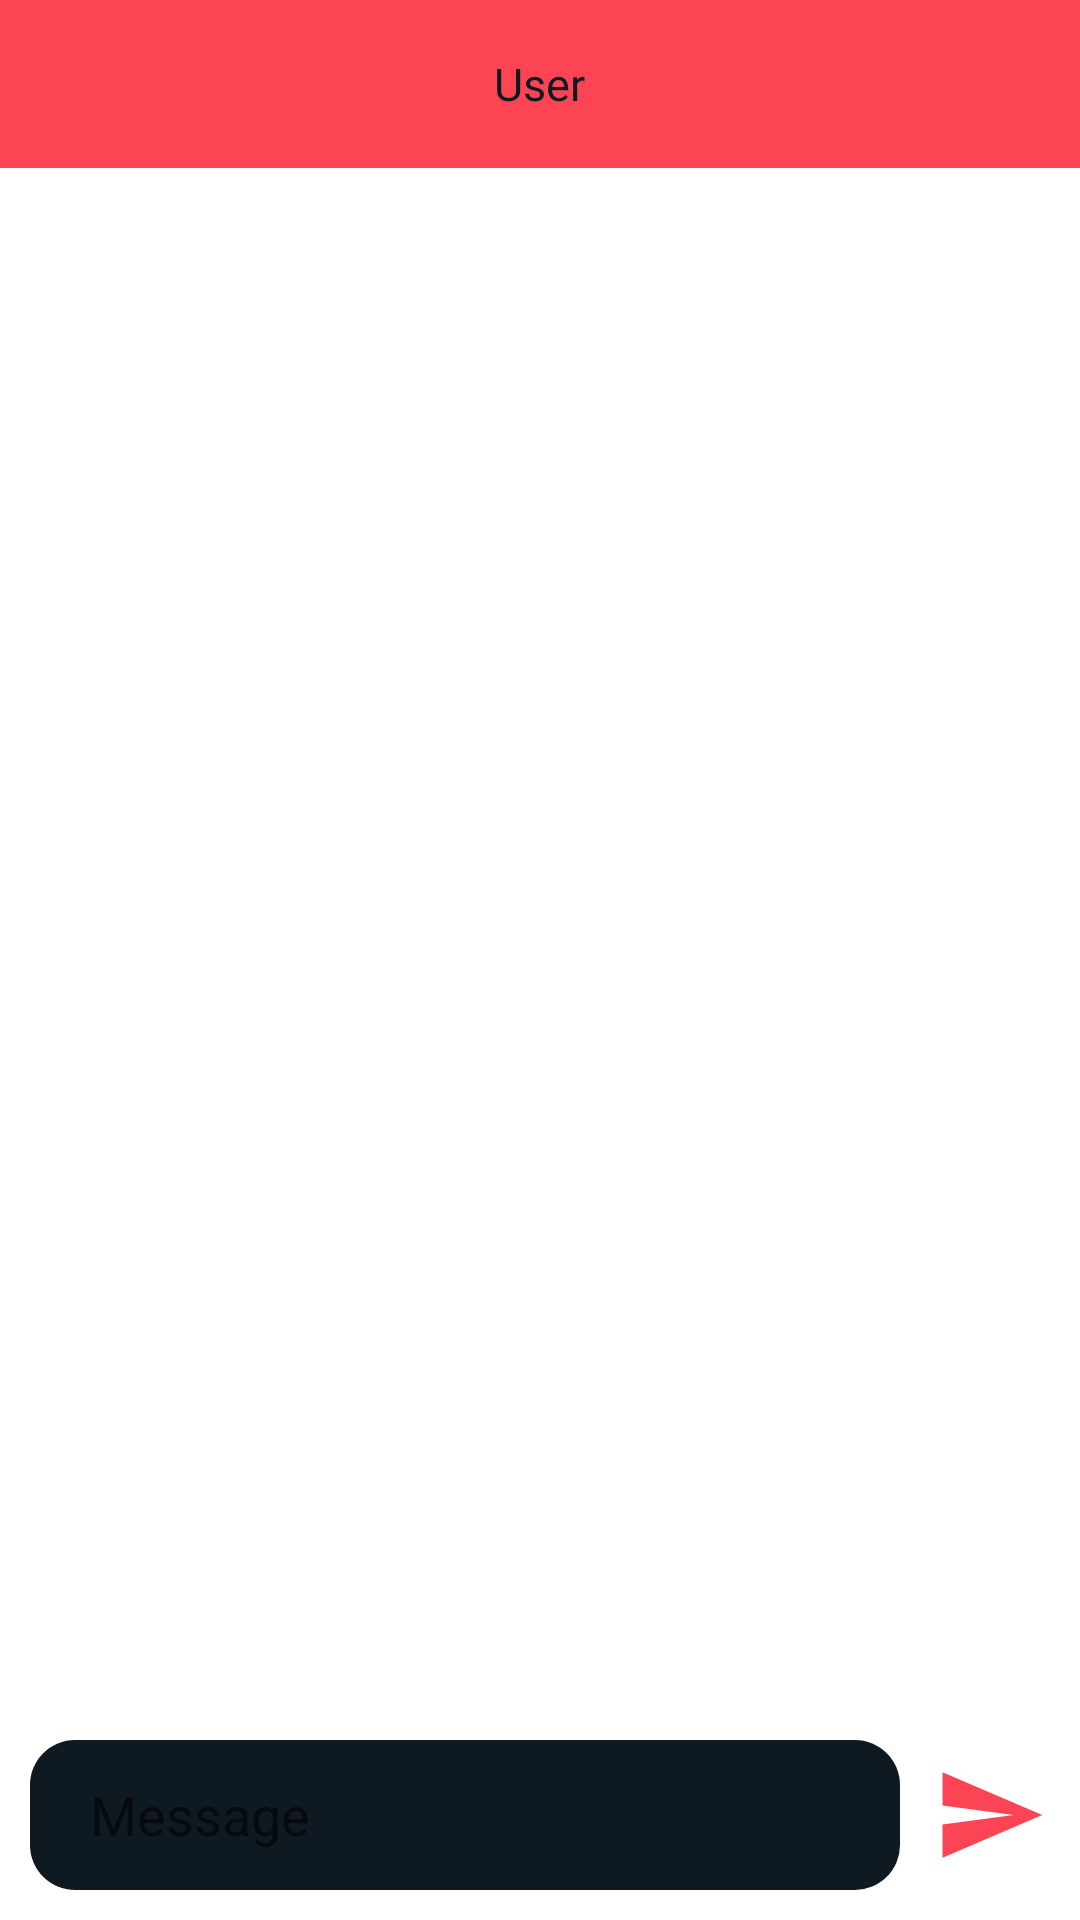

Named icons in this screenshot (1080 x 1920) and their centers, (x,y):
Send button: (992,1815)
